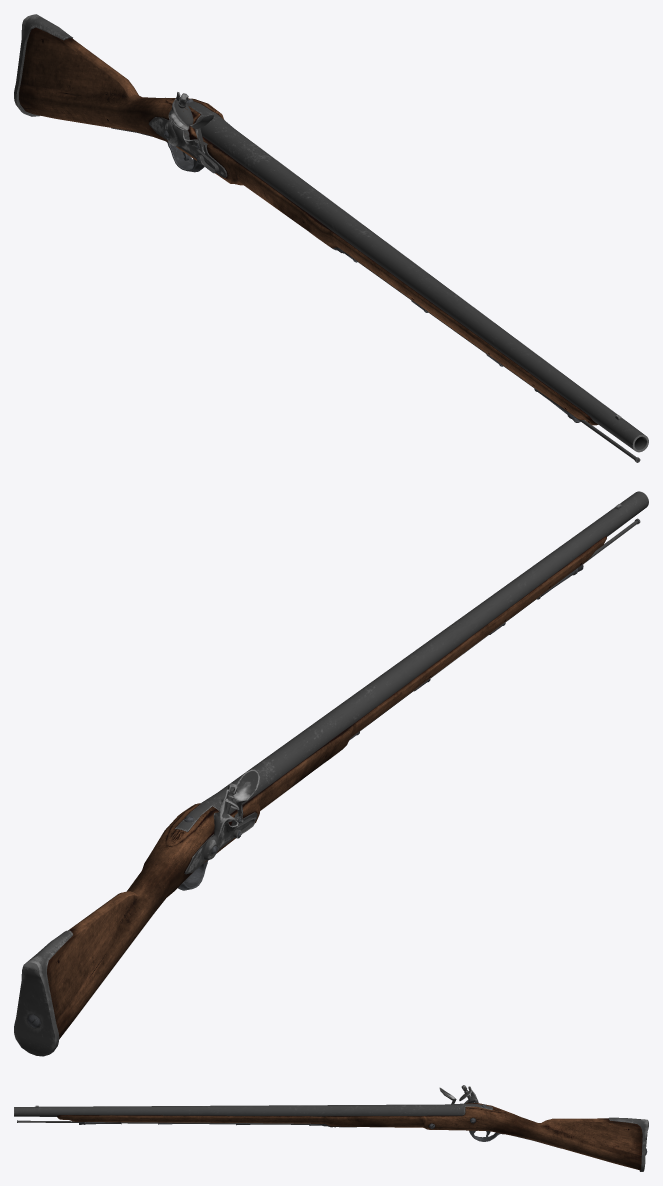
File: musket.glb
3 views of the same model, one above another, from view 1: azimuth 30°, elevation 25°; view 2: azimuth 150°, elevation 25°; view 3: azimuth 270°, elevation 25° (orthographic). The views are drawn at different scales.
Parts seen in each view (by area): view 1: body_low, dylo_low, pruklad_low, metal_detal_low; view 2: body_low, dylo_low, pruklad_low; view 3: body_low, dylo_low, pruklad_low, shompol_low, shompol_detal_low, metal_finger_low.
Boxes of the visible parts, box(x1,y1,x2,y2) form: body_low: box(19, 27, 598, 425); dylo_low: box(187, 101, 648, 452); pruklad_low: box(14, 14, 72, 116); metal_detal_low: box(149, 117, 227, 177); body_low: box(47, 536, 606, 1038); dylo_low: box(175, 491, 648, 831); pruklad_low: box(14, 930, 72, 1056); body_low: box(57, 1103, 642, 1170); dylo_low: box(14, 1103, 492, 1116); pruklad_low: box(608, 1117, 648, 1171); shompol_low: box(17, 1120, 309, 1124); shompol_detal_low: box(79, 1122, 356, 1127); metal_finger_low: box(469, 1130, 560, 1148).
Size of the model in its own units: 0.2472 by 0.6661 by 4.83.
1 material, 1 textured.
